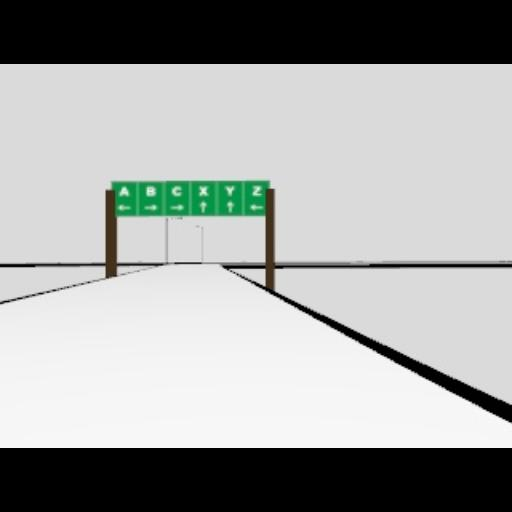A: (118, 186, 130, 196)
B: (145, 186, 155, 196)
C: (170, 184, 182, 196)
Left: (248, 203, 262, 209), (117, 203, 127, 209)
Right: (170, 203, 184, 209), (143, 203, 157, 209)
Straight: (198, 200, 206, 212), (226, 200, 234, 212)
X: (198, 184, 208, 196)
Y: (224, 184, 236, 196)
Z: (252, 184, 262, 196)
